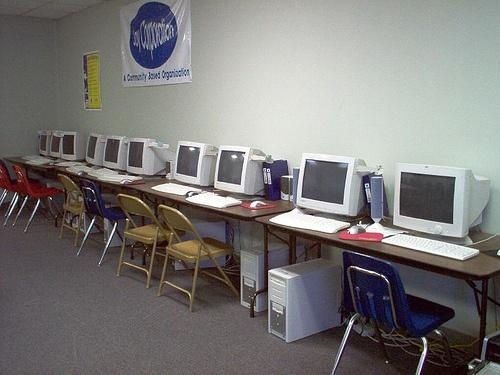chair: (333, 248, 458, 375), (157, 204, 240, 315), (118, 195, 189, 290), (79, 181, 138, 268), (12, 167, 69, 233), (57, 175, 108, 245), (1, 163, 38, 221)
tvmonitor: (392, 163, 493, 245), (297, 154, 369, 223), (215, 147, 273, 199), (174, 140, 218, 187), (125, 138, 168, 179), (100, 135, 129, 172), (61, 133, 87, 162), (86, 134, 107, 167), (48, 132, 61, 161), (37, 131, 50, 157)
